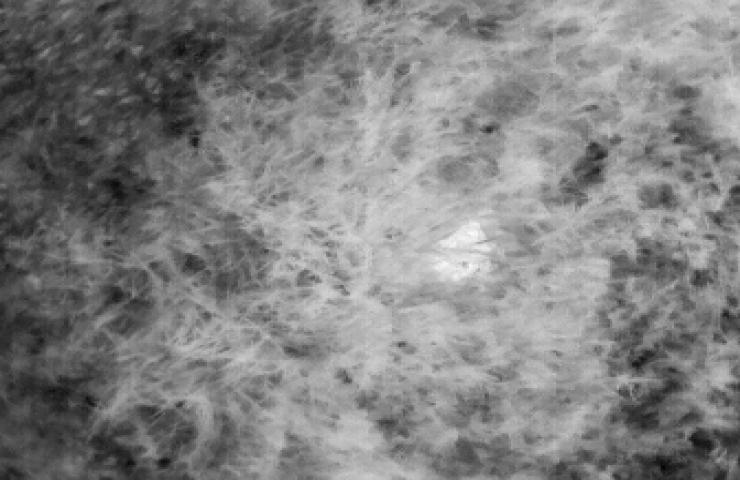landmines: (430, 221, 503, 288)
